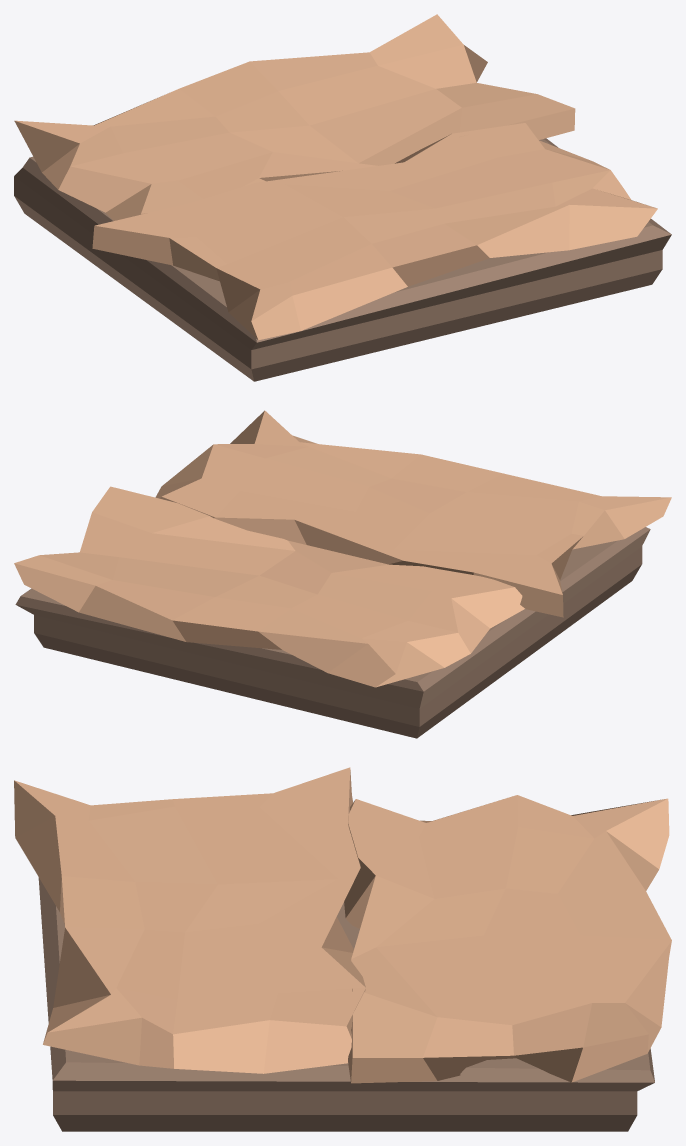
Rendered from Raft Platform 2.fbx.
The picture shows the model from 3 angles, top to bottom: view 1: azimuth 30°, elevation 25°; view 2: azimuth 150°, elevation 25°; view 3: azimuth 270°, elevation 25°; orthographic projection. The views are drawn at different scales.
Parts seen in each view (by area): view 1: Raft Plank Left, Raft Plank Right, Raft Platform; view 2: Raft Plank Right, Raft Plank Left, Raft Platform; view 3: Raft Plank Left, Raft Plank Right, Raft Platform.
Boxes of the visible parts, box(x1,y1,x2,y2) form: Raft Plank Left: box(92, 123, 657, 340); Raft Plank Right: box(14, 14, 575, 220); Raft Platform: box(14, 138, 671, 381); Raft Plank Right: box(14, 486, 524, 687); Raft Plank Left: box(155, 410, 671, 617); Raft Platform: box(15, 527, 650, 738); Raft Plank Left: box(14, 767, 365, 1073); Raft Plank Right: box(344, 795, 671, 1083); Raft Platform: box(38, 877, 654, 1131).
Size of the model in its own units: 236 by 45.26 by 225.
